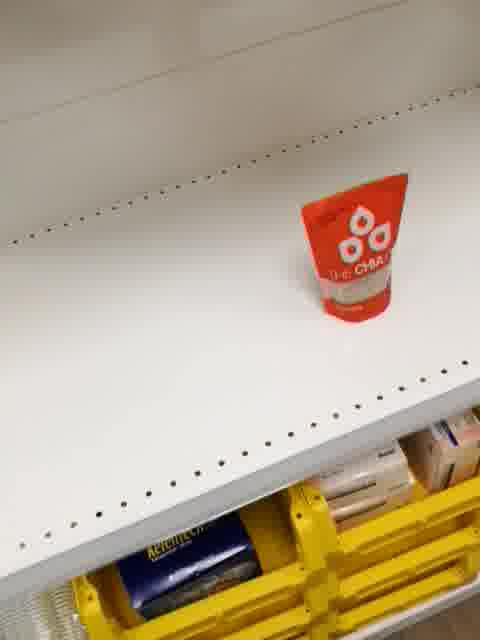whitechia: (299, 171, 411, 325)
